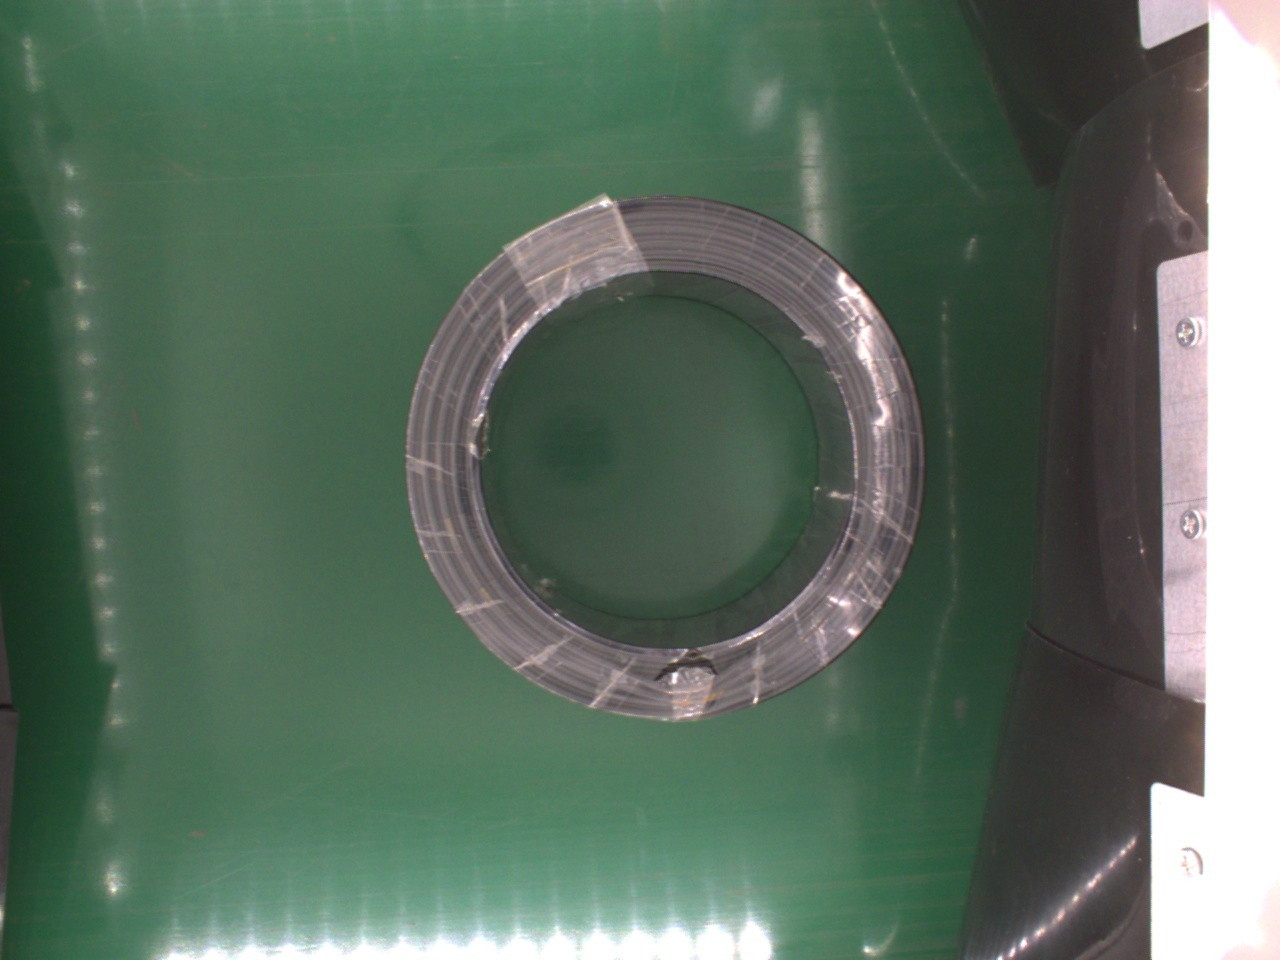black: (404, 196, 925, 724)
